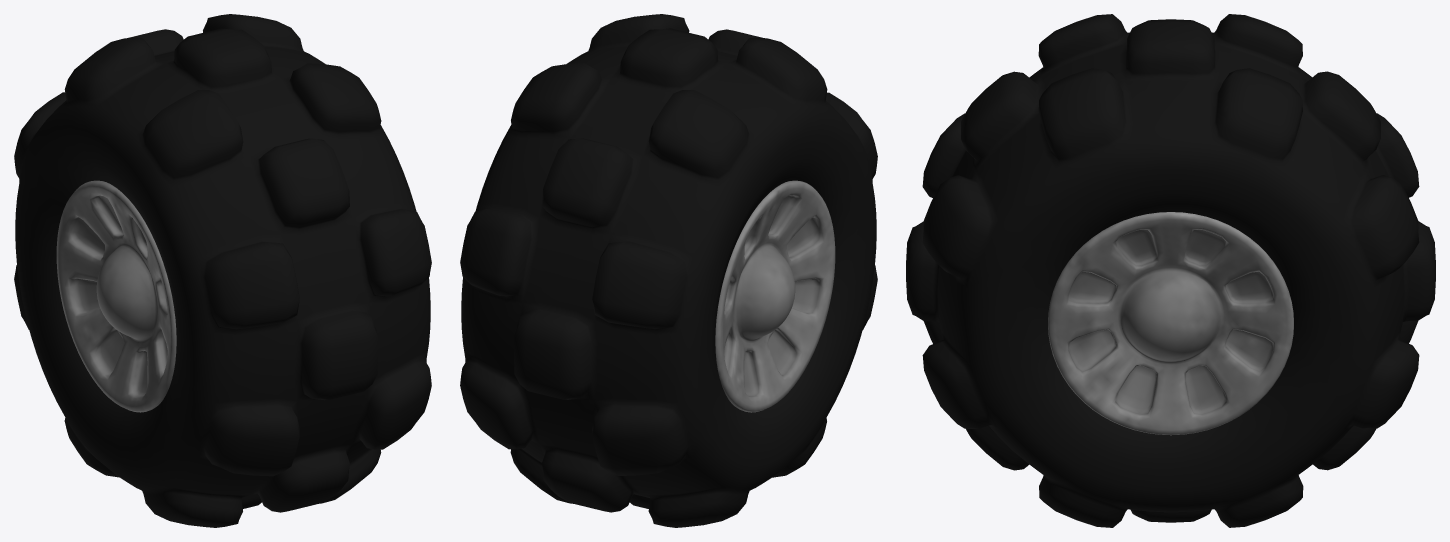
The model's file is largeWheel.glb.
3 renders of one model, left to right at view 1: azimuth 30°, elevation 25°; view 2: azimuth 150°, elevation 25°; view 3: azimuth 270°, elevation 25°, orthographic. The views are drawn at different scales.
Visible parts, largest first — view 1: hull_0.002; view 2: hull_0.002; view 3: hull_0.002.
Part boxes in pixels (x1,y1,x2,y2): hull_0.002: (14,14,431,527); hull_0.002: (460,14,877,527); hull_0.002: (906,14,1435,527).
Size of the model in its own units: 0.8281 by 1.54 by 1.54.
1 material, 1 textured.
